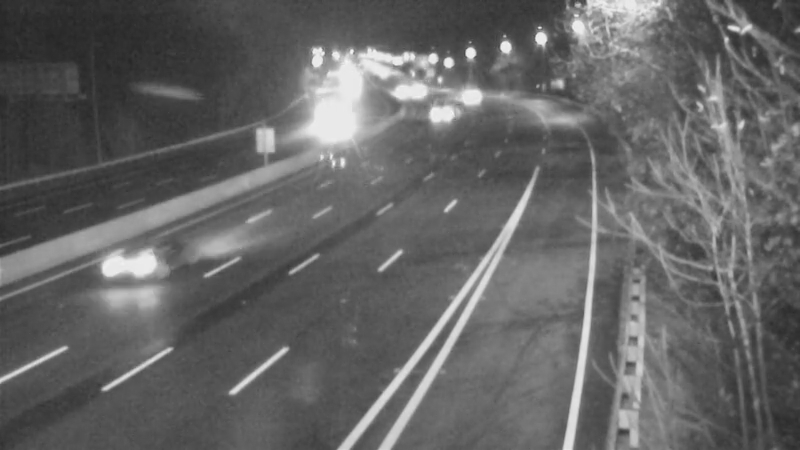vehicle: (98, 224, 178, 304), (390, 66, 440, 116), (378, 68, 428, 118), (443, 73, 493, 123), (413, 89, 463, 139), (294, 108, 344, 158)
